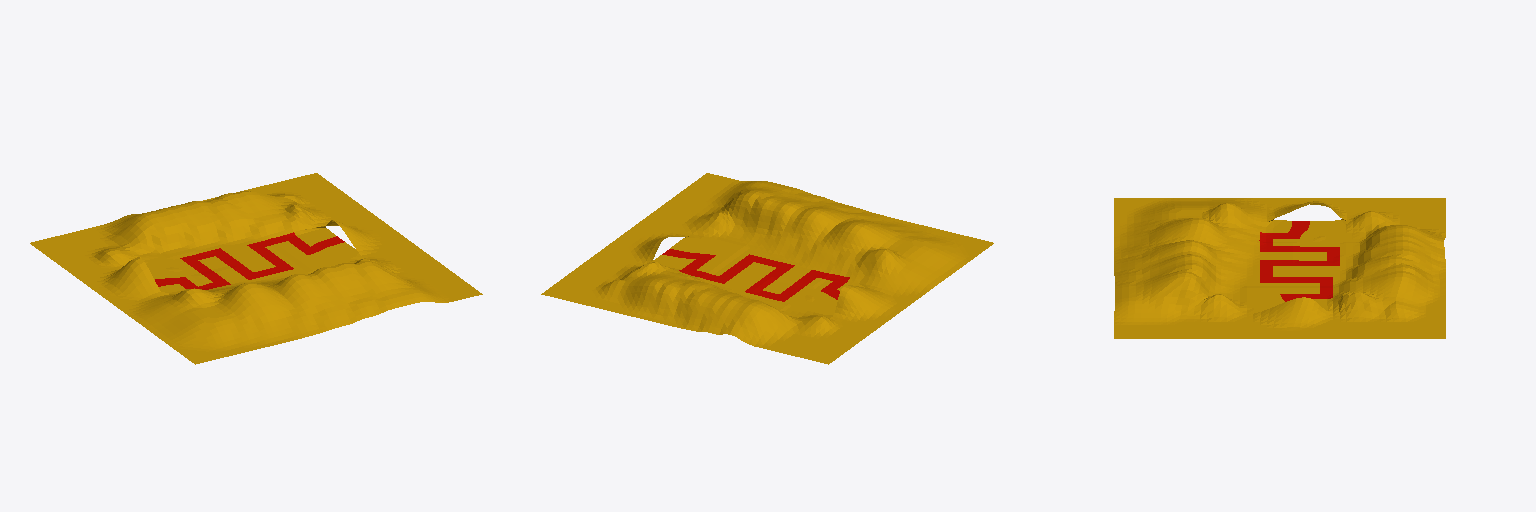
File: map.obj
3 views of the same model, side by side, from view 1: azimuth 30°, elevation 25°; view 2: azimuth 150°, elevation 25°; view 3: azimuth 270°, elevation 25° (orthographic).
Visible parts, largest first — view 1: Plane_Plane, Plane.001_Plane.001; view 2: Plane_Plane, Plane.001_Plane.001; view 3: Plane_Plane, Plane.001_Plane.001.
Boxes of the visible parts, x1=… form: Plane_Plane: x1=30, y1=173, x2=482, y2=364; Plane.001_Plane.001: x1=155, y1=232, x2=344, y2=289; Plane_Plane: x1=541, y1=173, x2=993, y2=364; Plane.001_Plane.001: x1=662, y1=249, x2=849, y2=301; Plane_Plane: x1=1114, y1=198, x2=1445, y2=338; Plane.001_Plane.001: x1=1259, y1=221, x2=1339, y2=301.
Size of the model in its own units: 2000 by 172 by 2000.